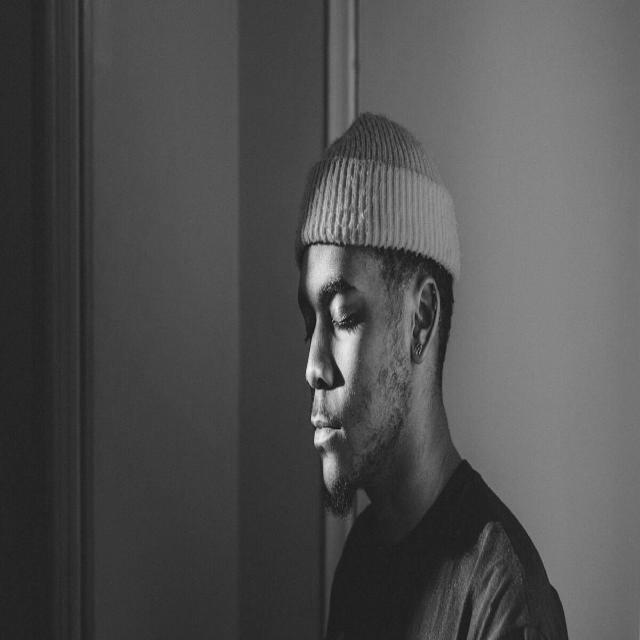real: (304, 248, 442, 497), (295, 282, 373, 354)
